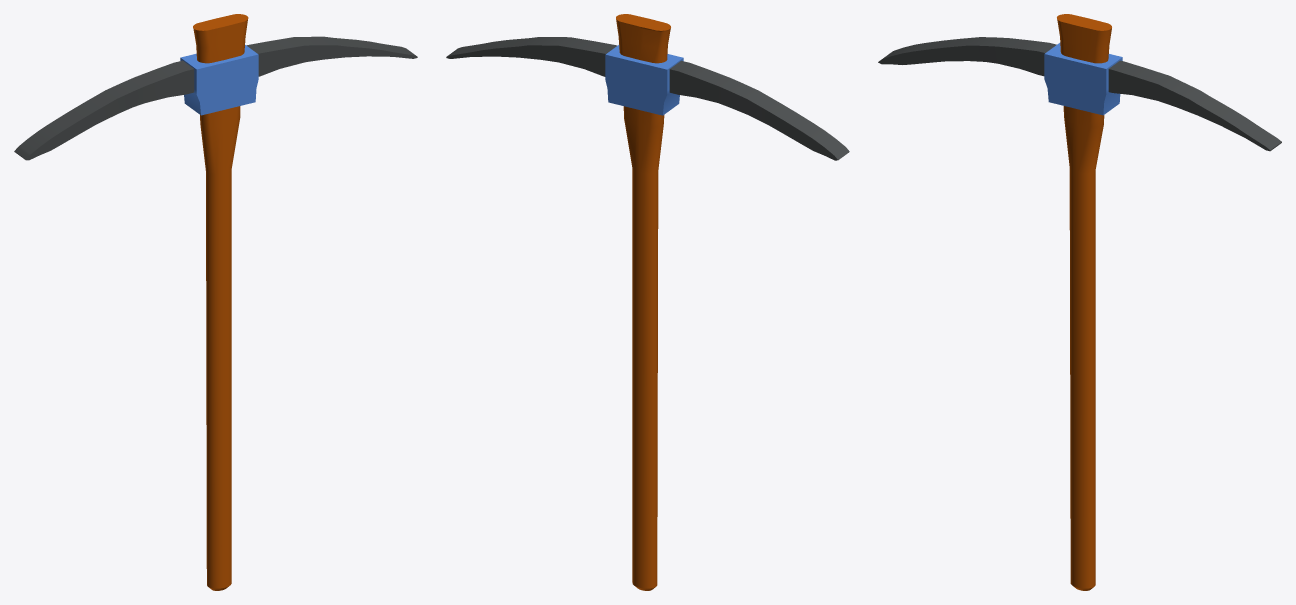
The model's file is minkirka .fbx.
The picture shows the model from 3 angles, left to right: view 1: azimuth 30°, elevation 25°; view 2: azimuth 150°, elevation 25°; view 3: azimuth 330°, elevation 25°; orthographic projection.
Visible parts, largest first — view 1: miner kirka; view 2: miner kirka; view 3: miner kirka.
Boxes of the visible parts, left/top/right/bottom form: miner kirka: left=14, top=14, right=417, bottom=590; miner kirka: left=446, top=14, right=849, bottom=590; miner kirka: left=878, top=14, right=1281, bottom=590.
Size of the model in its own units: 529 by 729 by 38.21.
